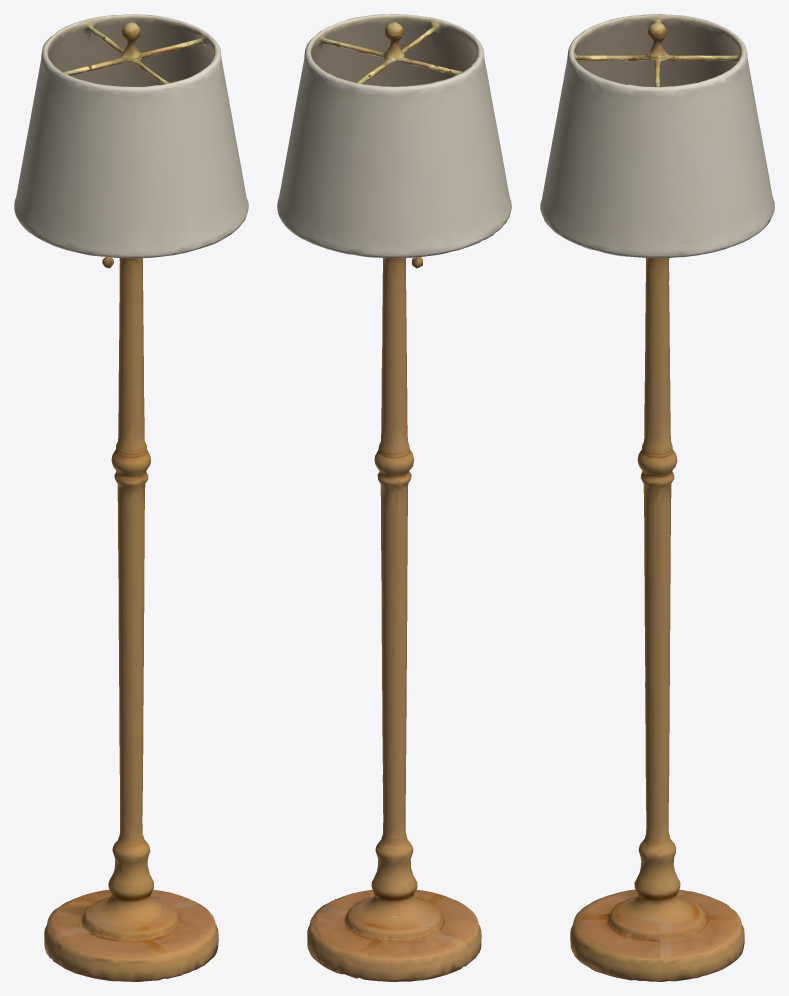
File: abajur.fbx
3 views of the same model, side by side, from view 1: azimuth 30°, elevation 25°; view 2: azimuth 150°, elevation 25°; view 3: azimuth 270°, elevation 25° (orthographic).
Visible parts, largest first — view 1: Mesh_0; view 2: Mesh_0; view 3: Mesh_0.
Part boxes in pixels (x1,y1,x2,y2): Mesh_0: (14,14,248,981); Mesh_0: (277,14,511,981); Mesh_0: (540,14,774,981).
Bounding box in the file's own units: 44.05 × 191 × 44.06.
1 material, 1 textured.
